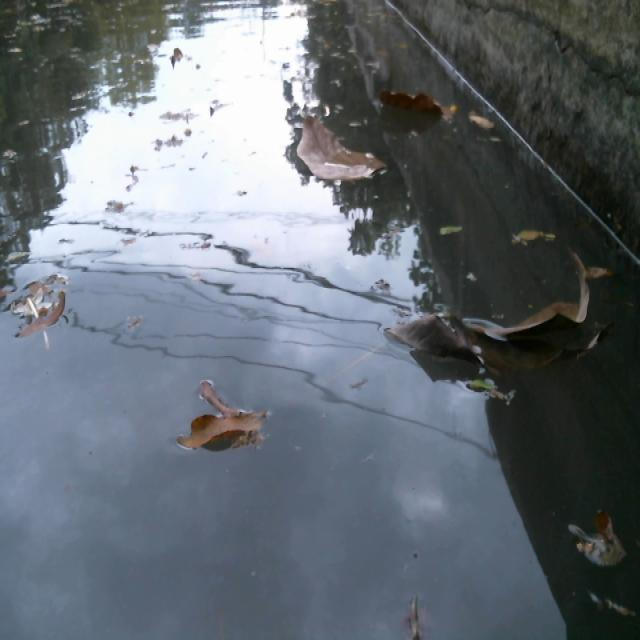Big-leaf: (482, 258, 604, 344), (383, 296, 492, 389), (288, 112, 388, 187), (376, 84, 458, 124)
Small-leaf: (569, 510, 632, 572), (185, 413, 268, 450), (199, 374, 243, 417), (18, 301, 72, 336), (401, 586, 434, 640), (509, 219, 558, 251), (463, 104, 499, 141), (595, 593, 638, 617), (438, 221, 475, 238), (168, 47, 188, 66)
